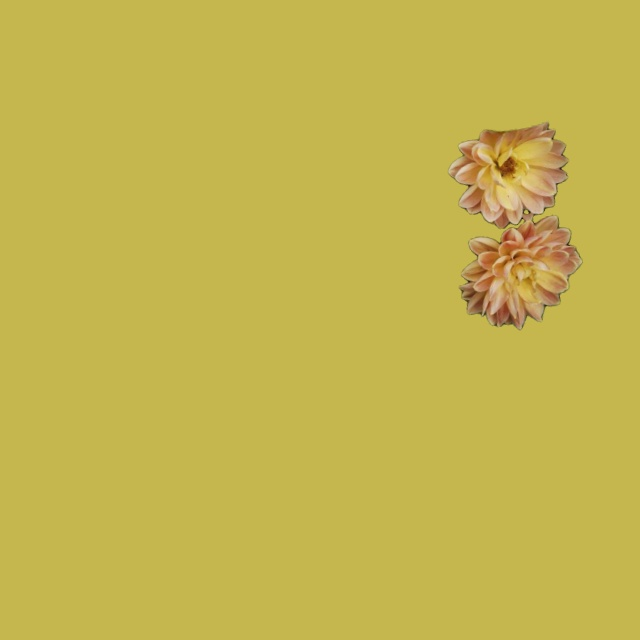dahlia: (448, 122, 581, 329)
